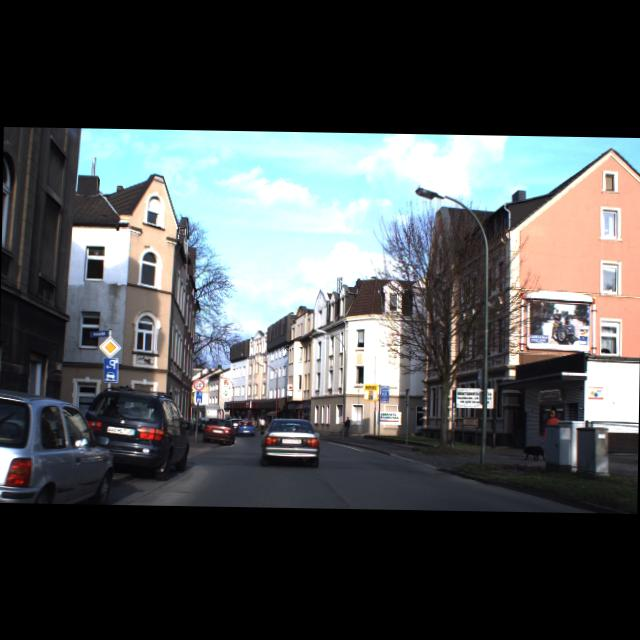other: (100, 336, 122, 358)
prohibitory: (193, 380, 204, 390)
